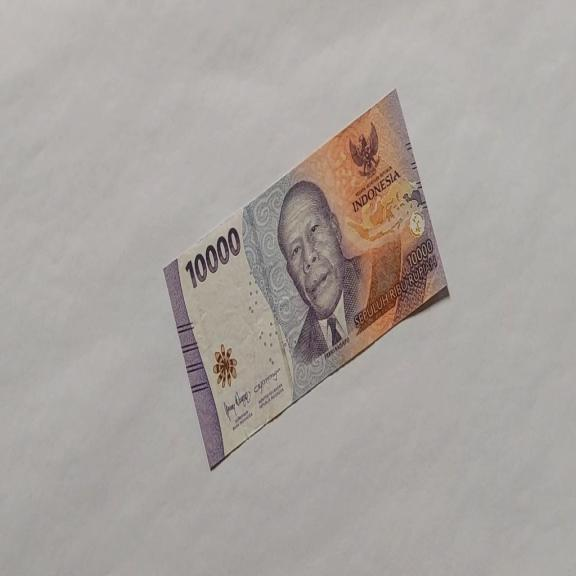Kertas: (162, 86, 450, 472), (184, 225, 241, 290)
